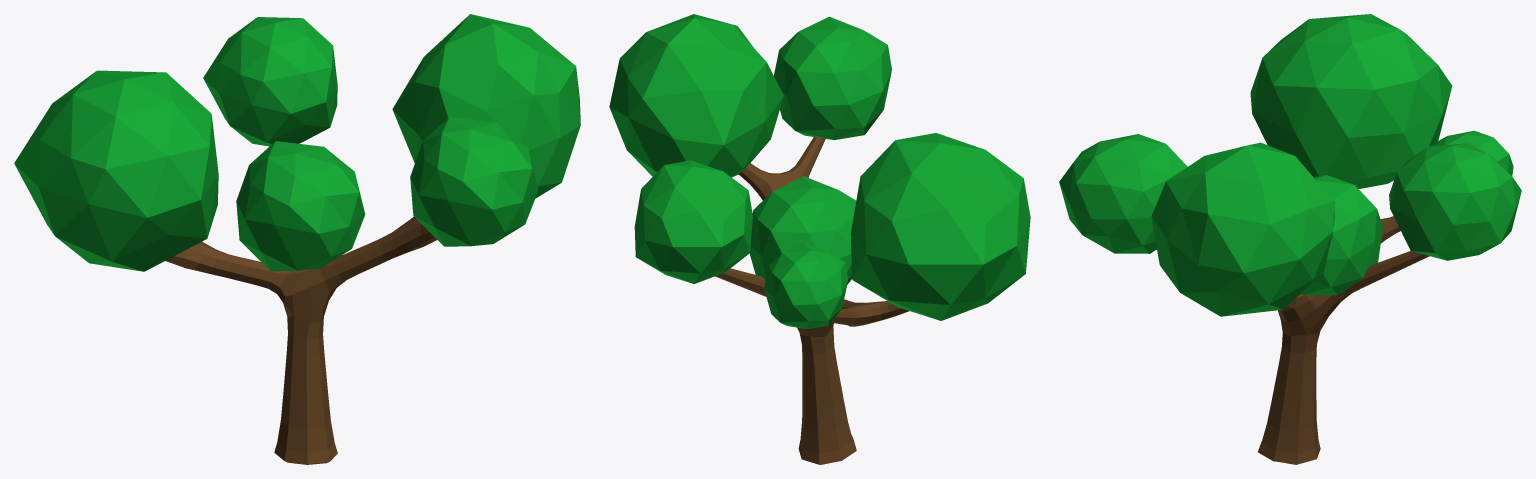
The model's file is Park2_T1.glb.
The picture shows the model from 3 angles, left to right: view 1: azimuth 30°, elevation 25°; view 2: azimuth 150°, elevation 25°; view 3: azimuth 270°, elevation 25°; orthographic projection. The views are drawn at different scales.
Parts seen in each view (by area): view 1: Park2-T1; view 2: Park2-T1; view 3: Park2-T1.
Boxes of the visible parts, left/top/right/bottom form: Park2-T1: left=14, top=14, right=580, bottom=464; Park2-T1: left=609, top=14, right=1030, bottom=464; Park2-T1: left=1059, top=14, right=1521, bottom=464.
Bounding box in the file's own units: 43.21 × 35 × 38.09.
